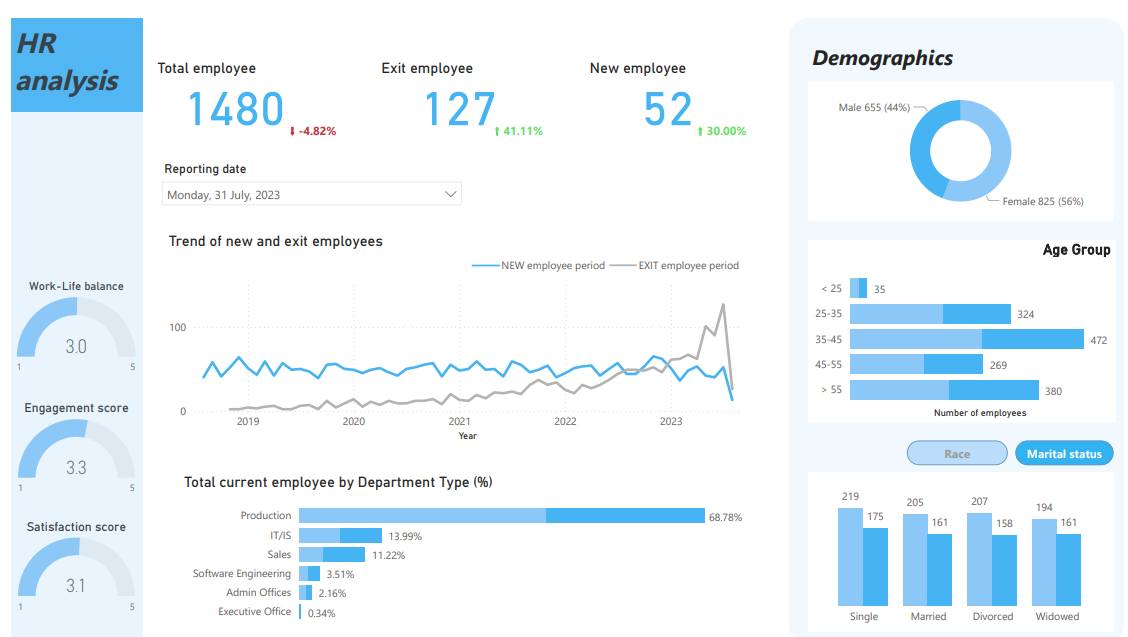

Layout of this report page (visuals, bound fields, positions):
{"tool":"powerbi","page":{"name":"Headcount","canvas":[1280,720],"ordinal":0},"visuals":[{"type":"shape","box":[893.7,0,386,720],"z":1000},{"type":"slicer","fields":{"Values":["dim Calendar.Reporting date"]},"box":[164.2,160.6,365.2,85.3],"z":2000},{"type":"card","title":"Total employee","fields":{"Values":["Measure.Total current employee"]},"box":[163.9,47.5,187.2,82.4],"z":3000},{"type":"textbox","box":[916.1,22.4,363.6,44.8],"z":4000},{"type":"donutChart","title":"Gender ","fields":{"Category":["dim Demographic.GenderCode"],"Y":["Measure.Total current employee"]},"box":[916.1,73.4,351,160.3],"z":5000},{"type":"barChart","title":"Age Group","fields":{"Y":["Measure.Total current employee"],"Category":["dim Demographic.Age Group"],"Series":["dim Demographic.GenderCode"]},"box":[916.1,255.2,352.8,209.6],"z":6000},{"type":"clusteredColumnChart","title":"Marital","fields":{"Y":["Measure.Total current employee"],"Series":["dim Demographic.GenderCode"],"Category":["dim Demographic.MaritalDesc"]},"box":[916.1,523,351,182.7],"z":8000},{"type":"shape","box":[1030.1,485.6,116.4,28.5],"z":11000},{"type":"shape","box":[1154.4,485.6,112.9,28.5],"z":12000},{"type":"card","title":"New employee","fields":{"Values":["Measure.NEW_employee_period"]},"box":[660,47.5,187.2,82.4],"z":13000},{"type":"card","title":"Exit employee","fields":{"Values":["Measure.EXIT_employee_period"]},"box":[421.8,47.5,187.2,82.4],"z":14000},{"type":"shape","box":[768.9,115.6,96.3,28.4],"z":15000},{"type":"shape","box":[535.9,115.6,95.4,28.4],"z":16000},{"type":"shape","box":[300,115.6,95.4,28.4],"z":17000},{"type":"lineChart","title":"Trend of new and exit employees","fields":{"Category":["dim Calendar.Reporting date.Variation.Date Hierarchy.Year","dim Calendar.Reporting date.Variation.Date Hierarchy.Month"],"Y":["Measure.NEW_employee_period","Measure.EXIT_employee_period"]},"box":[176.2,245.9,670.7,245],"z":18000},{"type":"gauge","title":"Work-Life balance ","fields":{"Y":["Avg(Fact Survey.Work-Life Balance Score)"],"MinValue":["Min(Fact Survey.Work-Life Balance Score)"],"MaxValue":["Max(Fact Survey.Work-Life Balance Score)"]},"box":[0,300.9,151.3,117.3],"z":19000},{"type":"gauge","title":"Engagement score","fields":{"Y":["Avg(Fact Survey.Engagement Score)"],"MinValue":["Min(Fact Survey.Engagement Score)1"],"MaxValue":["Max(Fact Survey.Engagement Score)2"]},"box":[0,440.6,151.3,117.3],"z":20000},{"type":"gauge","title":"Satisfaction score","fields":{"Y":["Avg(Fact Survey.Satisfaction Score)"],"MinValue":["Min(Fact Survey.Satisfaction Score)1"],"MaxValue":["Max(Fact Survey.Satisfaction Score)2"]},"box":[0,576.7,151.3,117.3],"z":21000},{"type":"barChart","title":" Total current employee by Department Type (%)","fields":{"Category":["dim Employee.DepartmentType"],"Y":["Measure.Total current employee"],"Series":["dim Demographic.GenderCode"]},"box":[194.6,522.9,651.6,182.8],"z":22000},{"type":"textbox","box":[0,0,151.3,108.4],"z":22501},{"type":"shape","box":[0,0,151.3,720],"z":23001}]}

Visuals, with their boxes in screenshot pixels (x1, y1, x2, y2), scaled from the page's 1280x720 canvas onto the 1128x637 screenshot:
shape: select_region(788, 0, 1127, 636)
slicer - dim Calendar.Reporting date: select_region(145, 142, 467, 218)
"Total employee" card: select_region(144, 42, 309, 115)
textbox: select_region(807, 20, 1127, 59)
"Gender " donutChart: select_region(807, 65, 1117, 207)
"Age Group" barChart: select_region(807, 226, 1118, 411)
"Marital" clusteredColumnChart: select_region(807, 463, 1117, 624)
shape: select_region(908, 430, 1010, 455)
shape: select_region(1017, 430, 1117, 455)
"New employee" card: select_region(582, 42, 747, 115)
"Exit employee" card: select_region(372, 42, 537, 115)
shape: select_region(678, 102, 762, 127)
shape: select_region(472, 102, 556, 127)
shape: select_region(264, 102, 348, 127)
"Trend of new and exit employees" lineChart: select_region(155, 218, 746, 434)
"Work-Life balance " gauge: select_region(0, 266, 133, 370)
"Engagement score" gauge: select_region(0, 390, 133, 494)
"Satisfaction score" gauge: select_region(0, 510, 133, 614)
" Total current employee by Department Type (%)" barChart: select_region(171, 463, 746, 624)
textbox: select_region(0, 0, 133, 96)
shape: select_region(0, 0, 133, 636)
